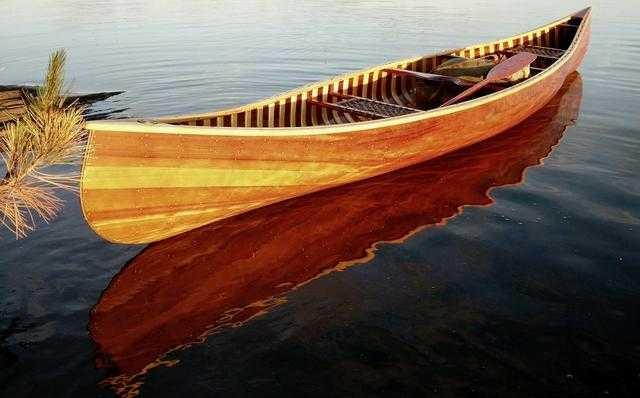kayak: (85, 8, 590, 251)
